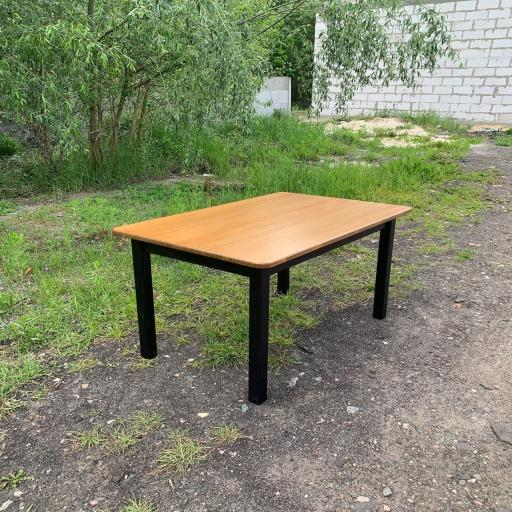phone: (113, 192, 411, 404)
